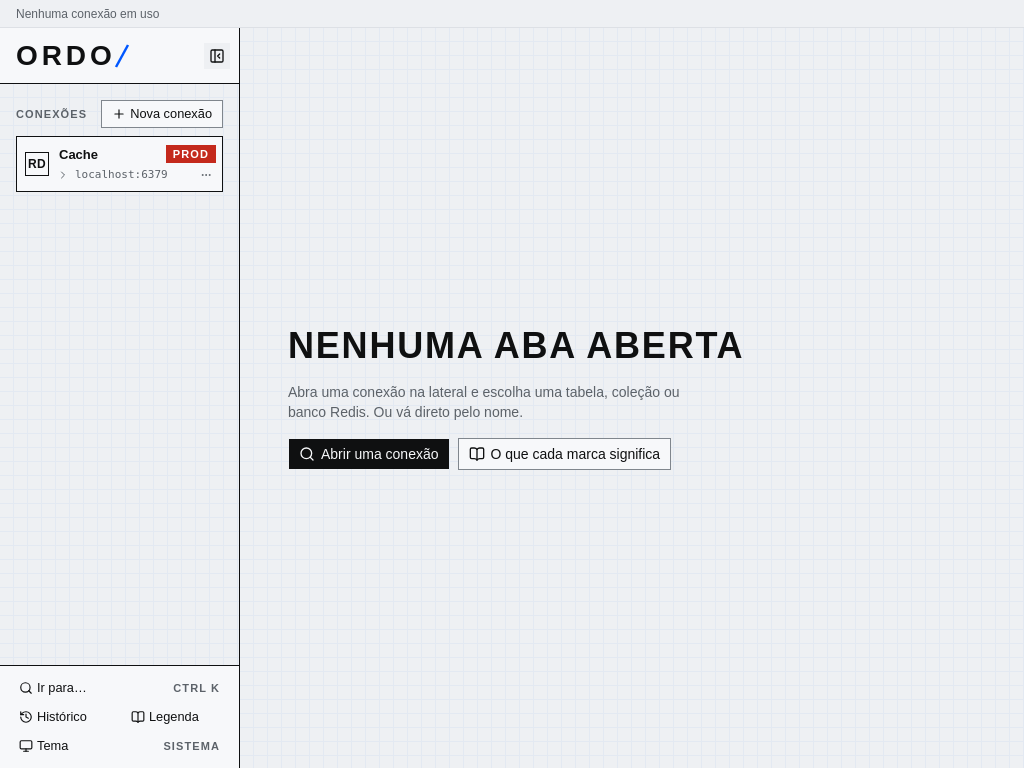
on prod MONITOR asks before starting
Click the list item "RD Cache Prod localhost:6379".
click(120, 164)  # box [17,137,222,191]
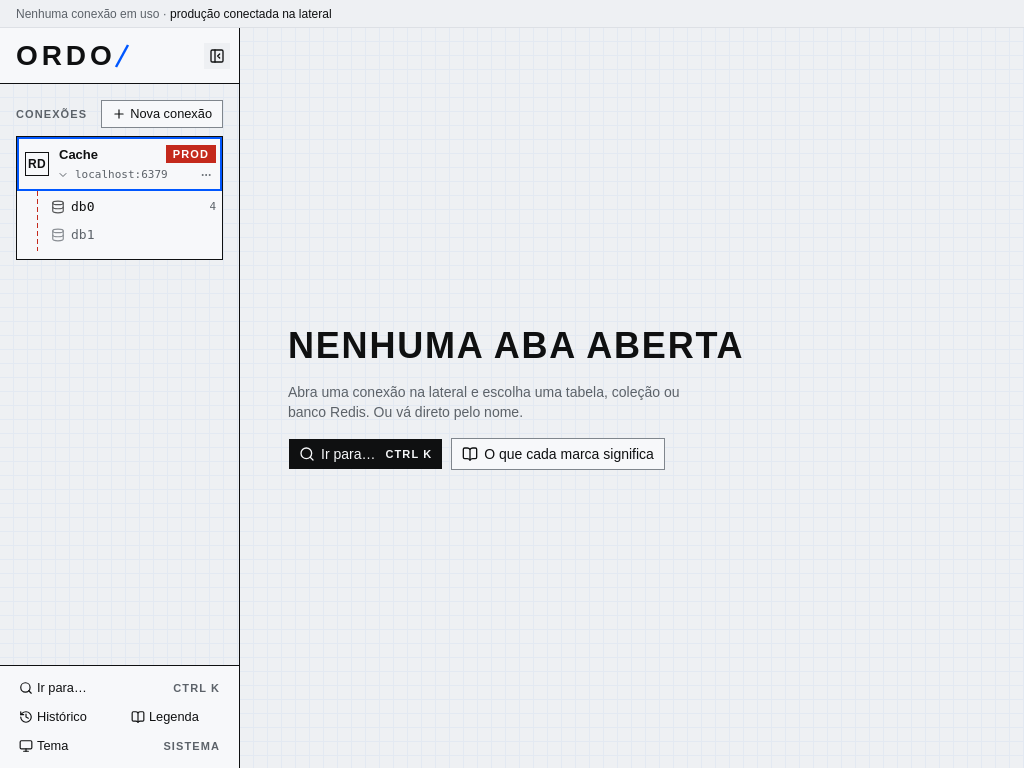
Click the list item "db0 4".
click(134, 207)  # box [45,193,222,221]
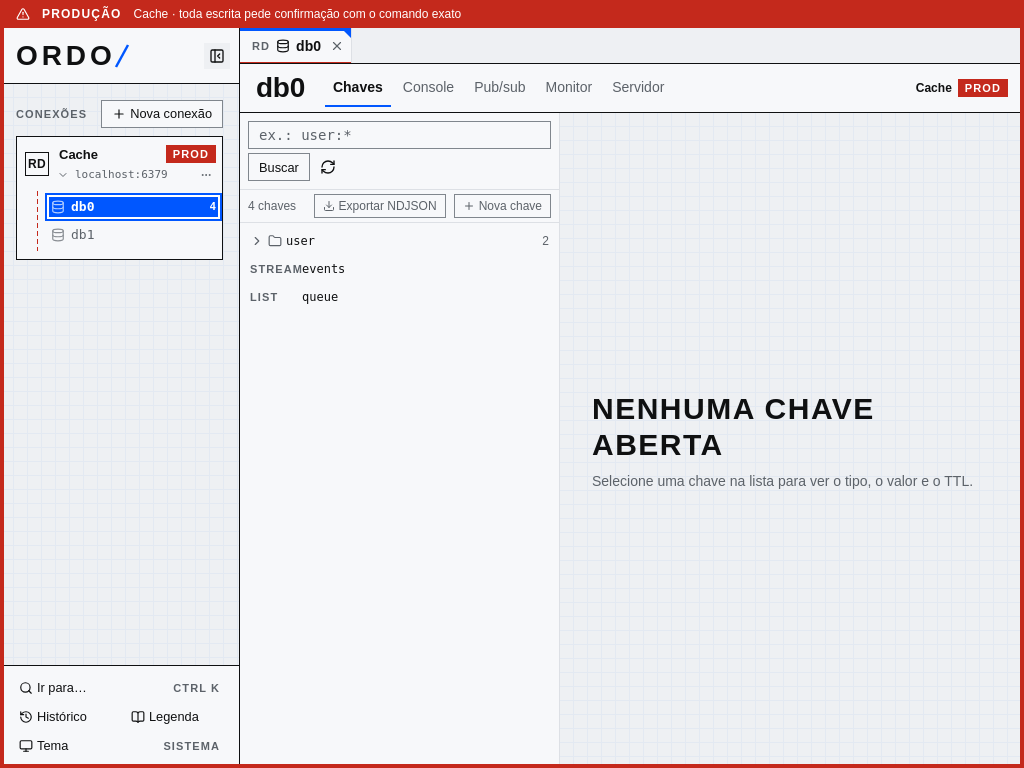
Click the tab "Monitor".
click(569, 88)  # box [538,69,600,107]
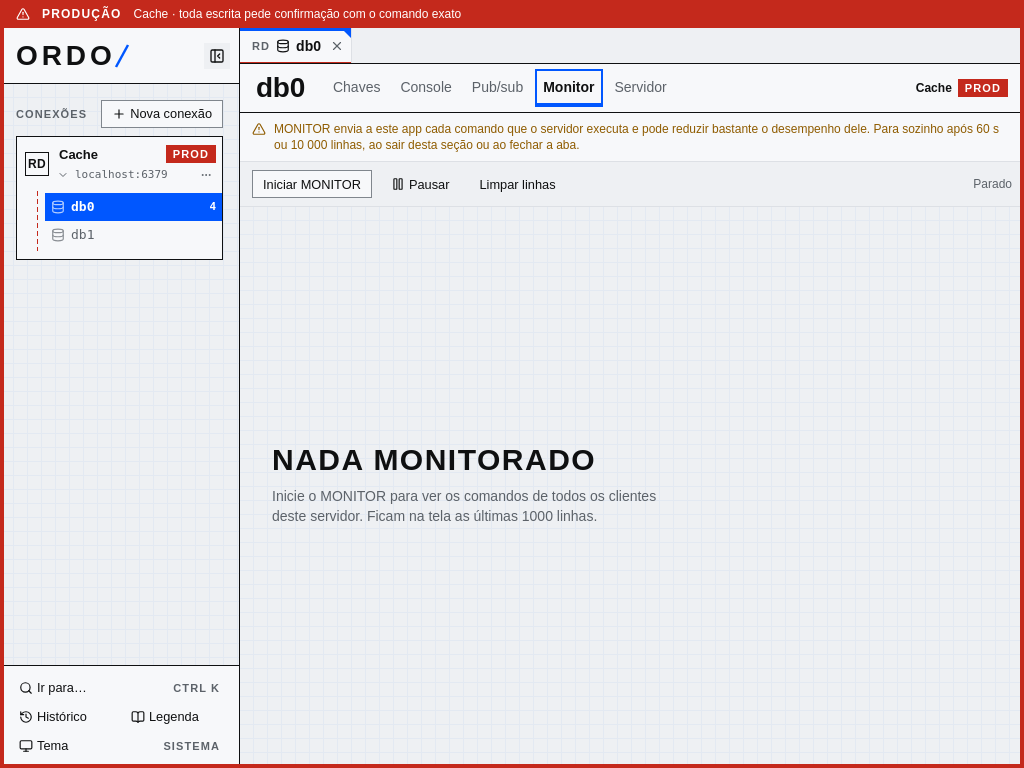
Click the button "Iniciar MONITOR".
click(312, 184)  # box [252,170,372,198]
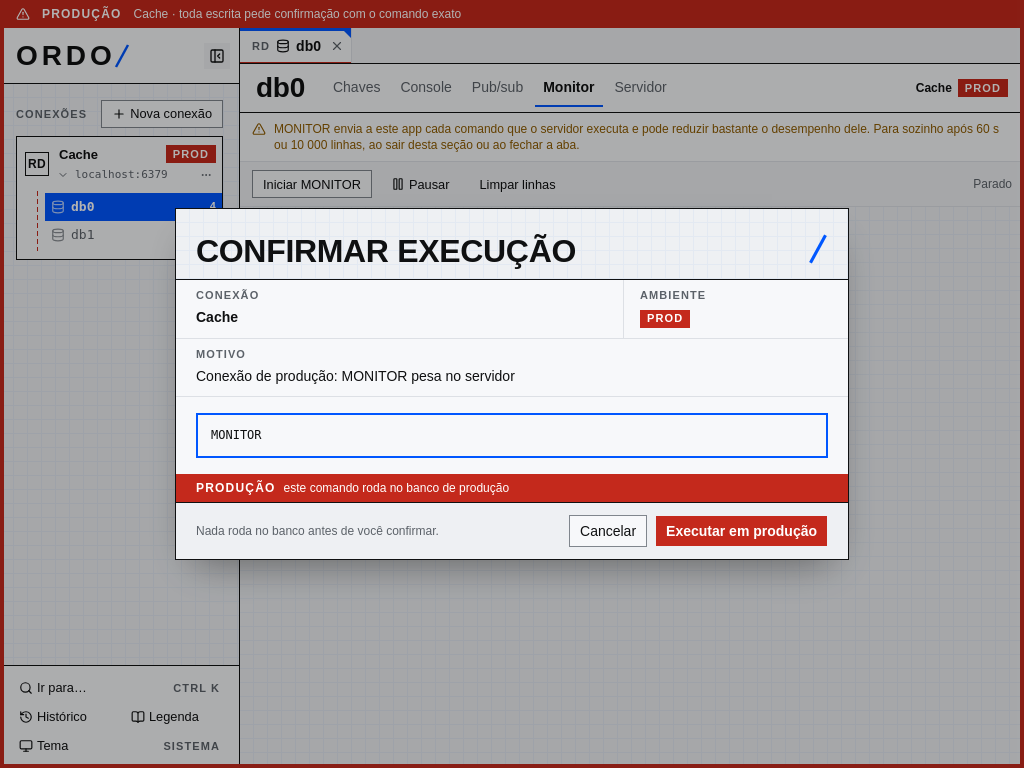
expect the text "Monitorando" is not shown: met
expect the text "MONITOR" is shown: met, box [196,412,828,458]
Click the button "Executar em produção".
click(742, 531)  # box [655,515,828,547]
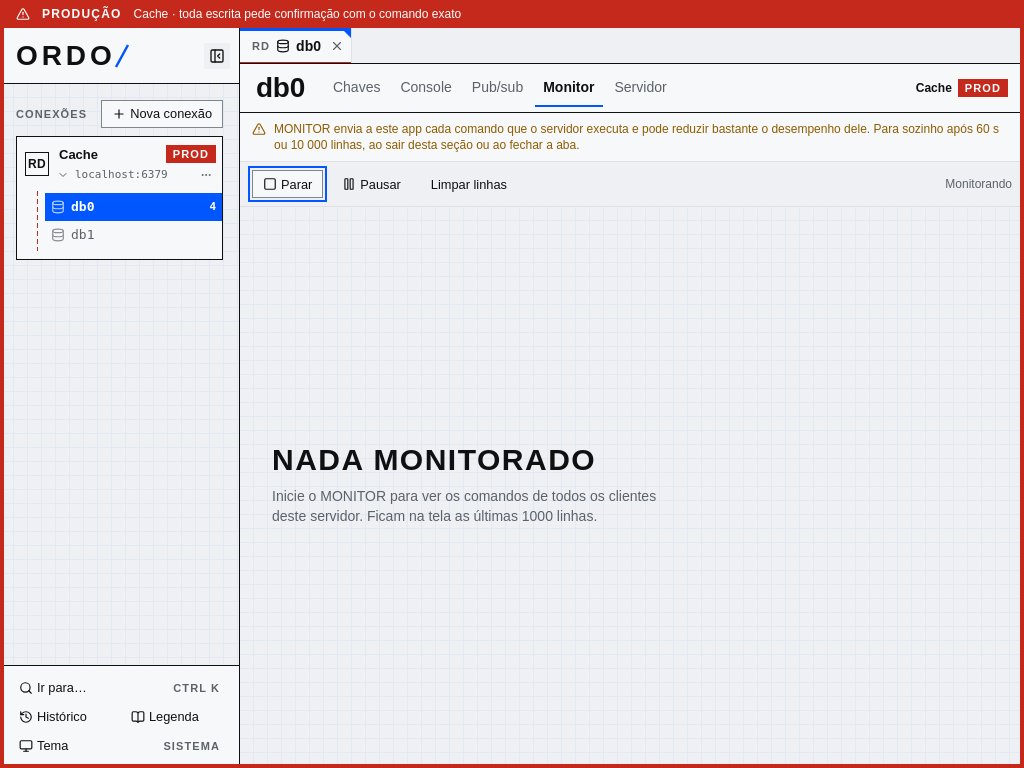
expect the text "Monitorando" is shown: met, box [945,176,1012,192]
